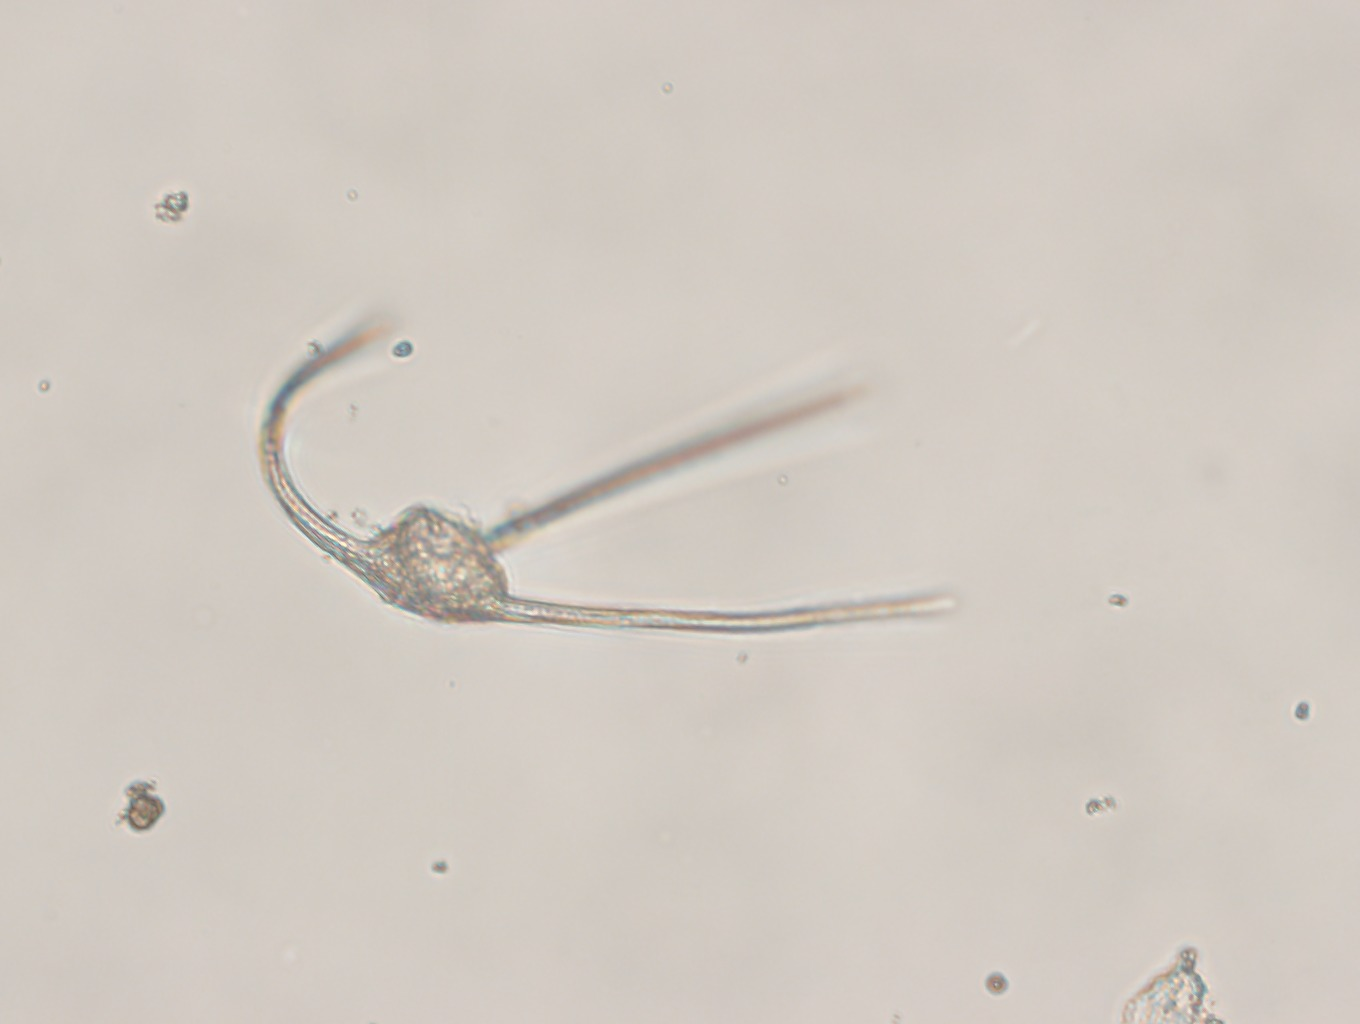ceratium trichoceros: (260, 297, 976, 636)
